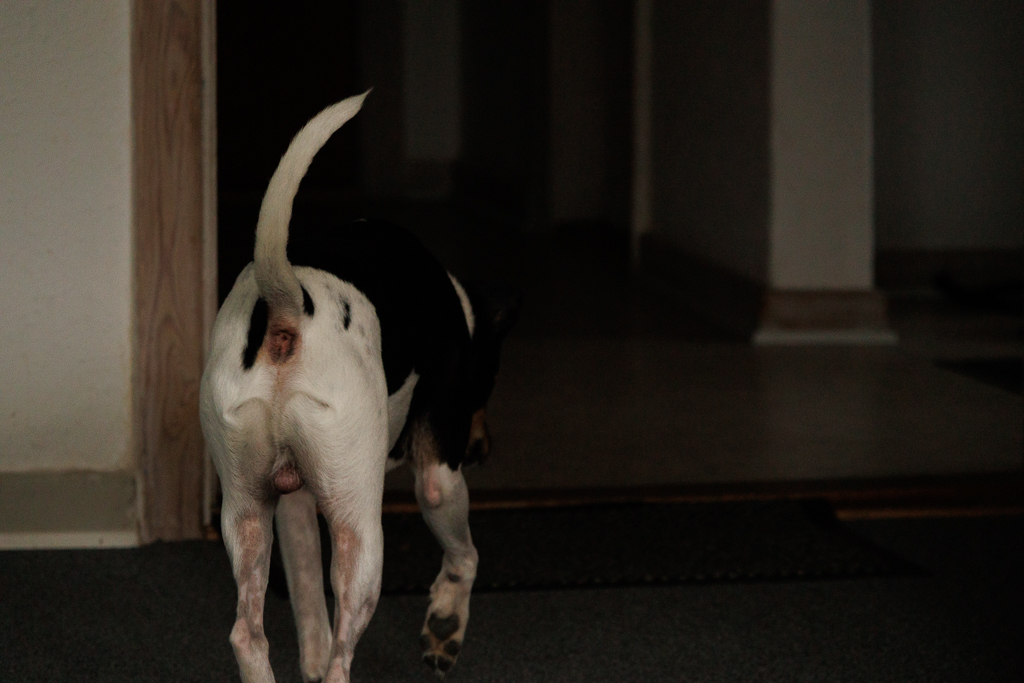Dog: (180, 81, 513, 683)
